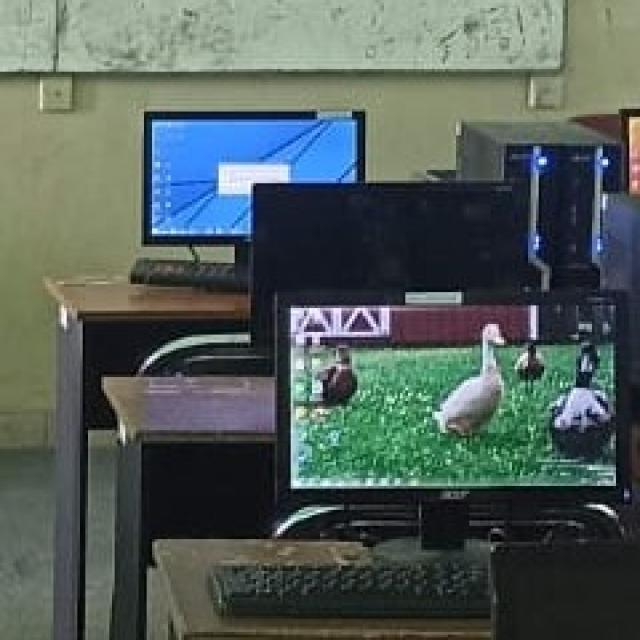offscreen: (250, 183, 530, 339), (250, 183, 527, 332)
onscreen: (272, 295, 620, 498), (151, 112, 362, 239)
